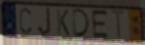C: (18, 7, 32, 35)
D: (72, 8, 92, 38)
E: (91, 9, 110, 40)
J: (37, 7, 52, 37)
K: (56, 8, 71, 37)
T: (110, 8, 128, 40)
